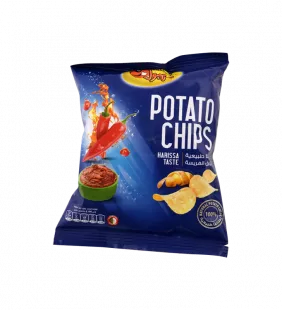MAHBOUL: (44, 45, 236, 267)
